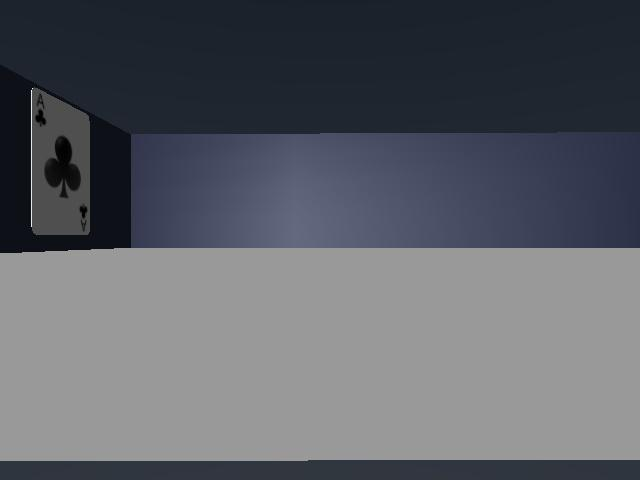club: (31, 88, 90, 234)
